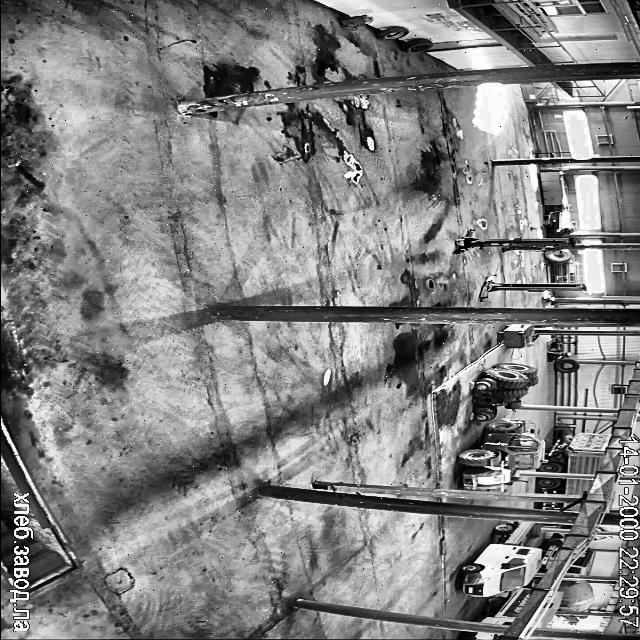car lift: (454, 230, 574, 253), (479, 275, 586, 300)
fire extinguisher: (340, 15, 372, 28)
tractor: (458, 419, 544, 489), (474, 362, 538, 420)
truck: (460, 522, 540, 596), (540, 432, 612, 473), (480, 588, 532, 624), (557, 580, 594, 610), (538, 477, 594, 494), (567, 548, 595, 573), (539, 593, 560, 626), (542, 537, 562, 570), (541, 499, 580, 511), (461, 632, 500, 640), (564, 616, 580, 624)
